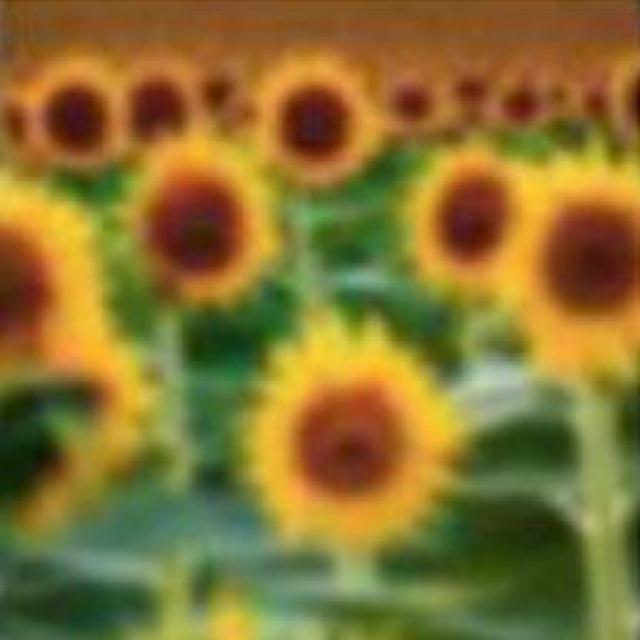sunflower: (241, 308, 469, 549), (519, 156, 640, 377), (130, 137, 282, 305), (413, 148, 533, 294), (260, 55, 382, 183)
